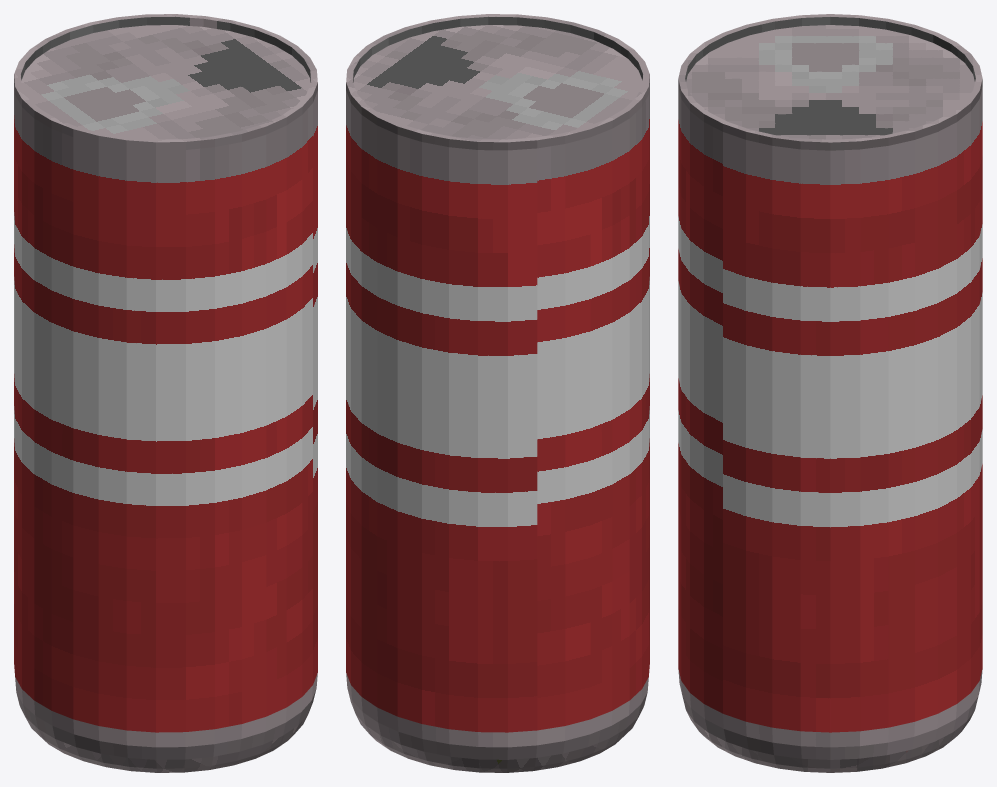
Rendered from Can_01.obj.
The picture shows the model from 3 angles, left to right: view 1: azimuth 30°, elevation 25°; view 2: azimuth 150°, elevation 25°; view 3: azimuth 270°, elevation 25°; orthographic projection.
Parts seen in each view (by area): view 1: Can_1; view 2: Can_1; view 3: Can_1.
Boxes of the visible parts, x1,y1,x2,y2 form: Can_1: (14,14,317,772); Can_1: (346,14,649,772); Can_1: (678,14,982,772).
Size of the model in its own units: 0.8708 by 2.02 by 0.8708.
